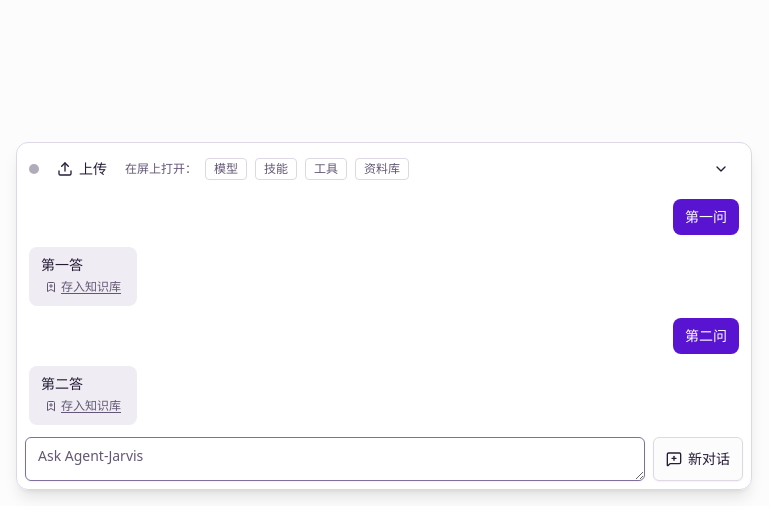
it: FloatingChat › REQ-F-043: 压缩当轮的 compacted 事件即时在边界处插入标记
Type "第三问" into the text box with placeholder "Ask Agent-Jarvis". click: (335, 459)
box: [25,437,645,481]
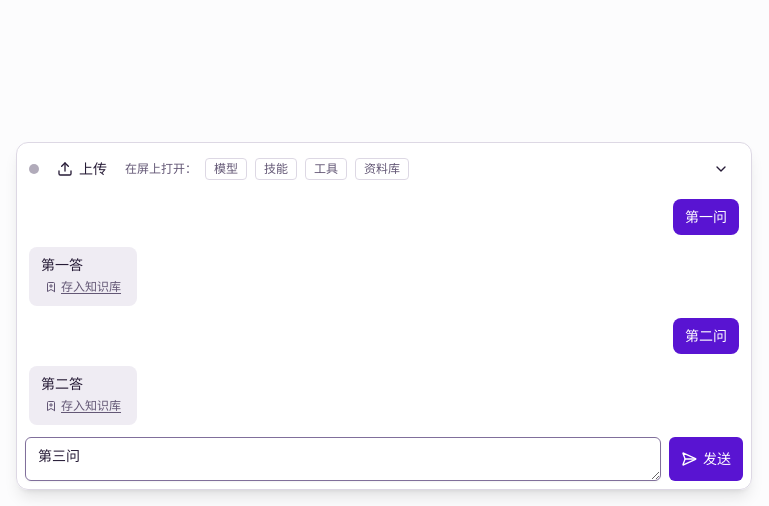
Click the button "发送". click: click(706, 459)
box: [669,437,743,481]
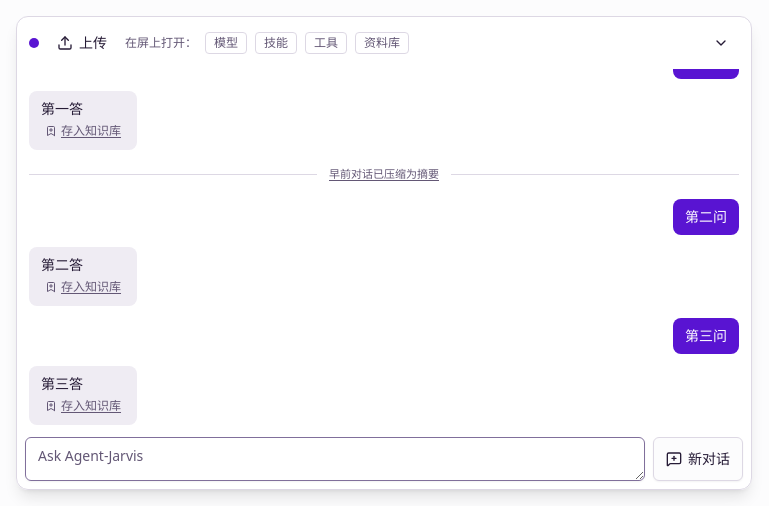
expect the element showing "第一答 存入知识库" is shown: met, box [29,91,137,150]
expect the text "第三答" is shown: met, box [41,374,83,392]
